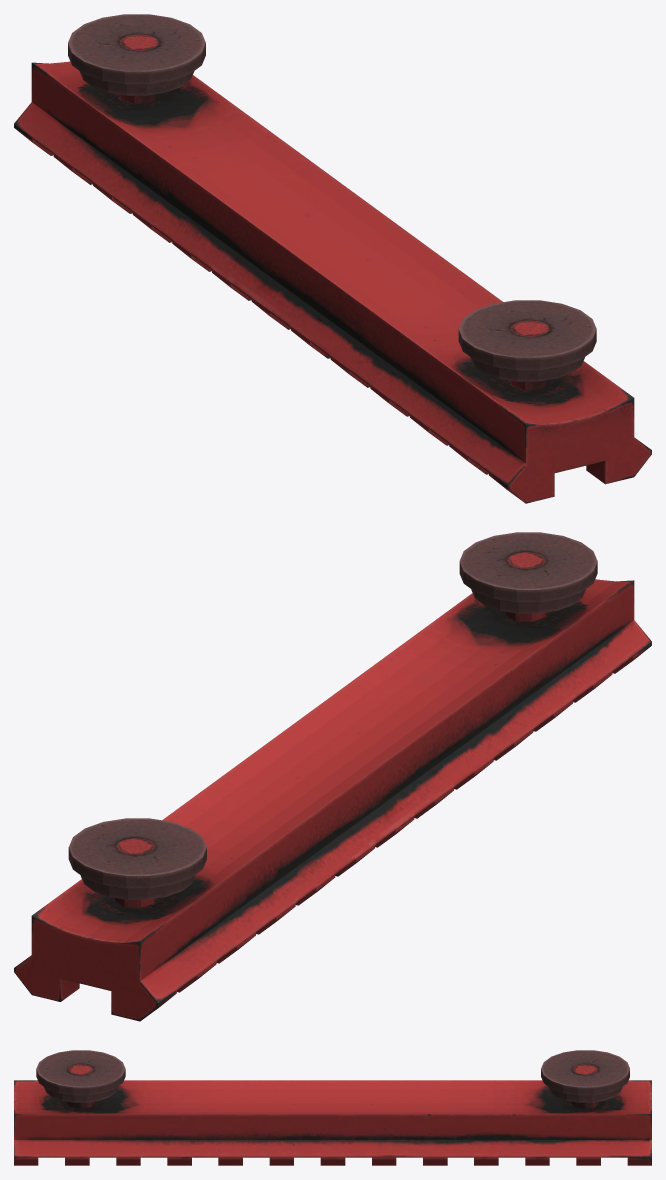
3 views of the same model, one above another, from view 1: azimuth 30°, elevation 25°; view 2: azimuth 150°, elevation 25°; view 3: azimuth 270°, elevation 25° (orthographic). The views are drawn at different scales.
Visible parts, largest first — view 1: TW_5b8403a086f7747ff856f4e2_PZ_Import; view 2: TW_5b8403a086f7747ff856f4e2_PZ_Import; view 3: TW_5b8403a086f7747ff856f4e2_PZ_Import.
Boxes of the visible parts, x1=… form: TW_5b8403a086f7747ff856f4e2_PZ_Import: x1=14, y1=14, x2=651, y2=503; TW_5b8403a086f7747ff856f4e2_PZ_Import: x1=14, y1=532, x2=651, y2=1021; TW_5b8403a086f7747ff856f4e2_PZ_Import: x1=14, y1=1050, x2=651, y2=1165.
Bounding box in the file's own units: 0.0121 × 0.0721 × 0.00996.
1 material, 1 textured.
